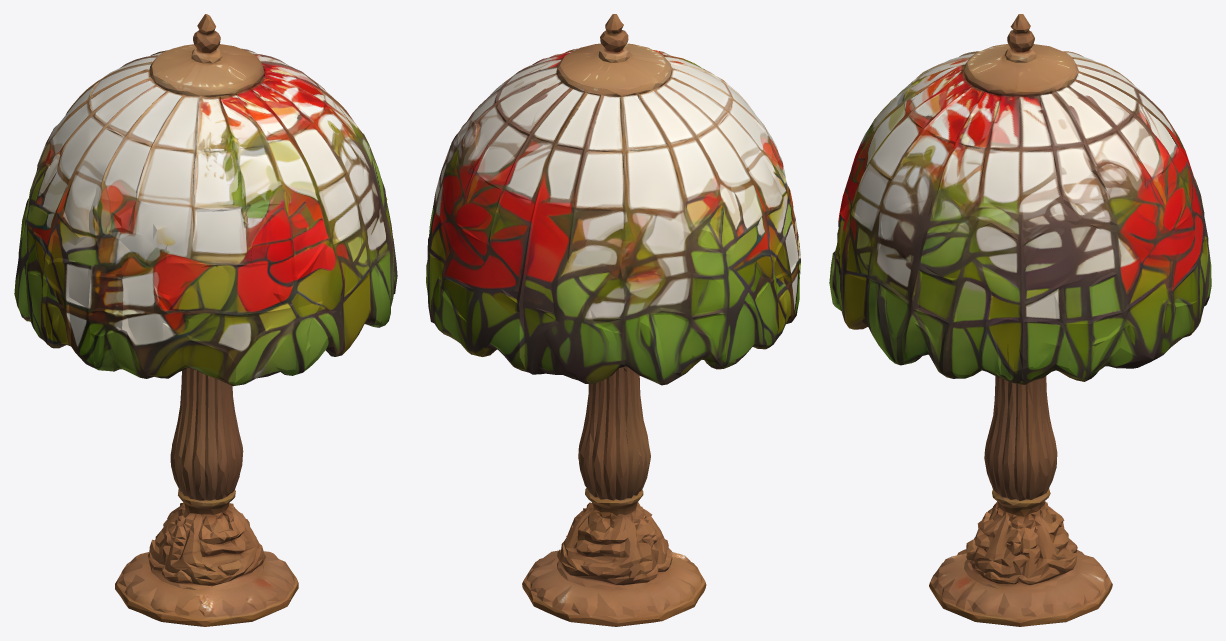
Rendered from tiffany_lamp.glb.
3 renders of one model, left to right at view 1: azimuth 30°, elevation 25°; view 2: azimuth 150°, elevation 25°; view 3: azimuth 270°, elevation 25°, orthographic.
Visible parts, largest first — view 1: model; view 2: model; view 3: model.
Boxes of the visible parts, x1,y1,x2,y2 form: model: (14,14,397,626); model: (426,14,800,626); model: (829,14,1211,626).
Bounding box in the file's own units: 1.07 × 1.78 × 1.07.
1 material, 1 textured.
